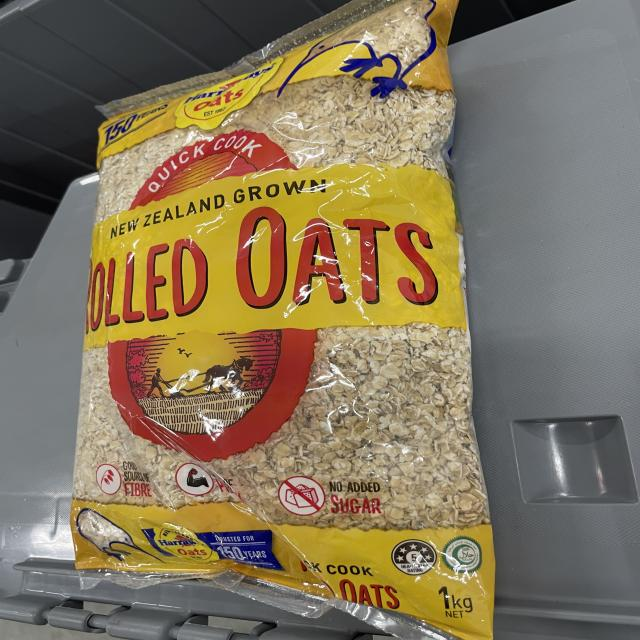object_name: (96, 84, 479, 610)
